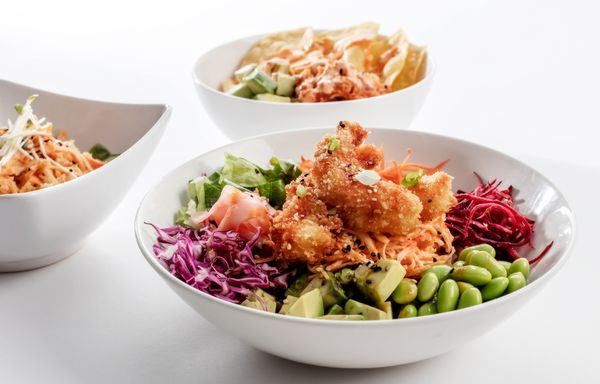sushi: (134, 122, 580, 371), (0, 80, 173, 274), (192, 21, 436, 138)
